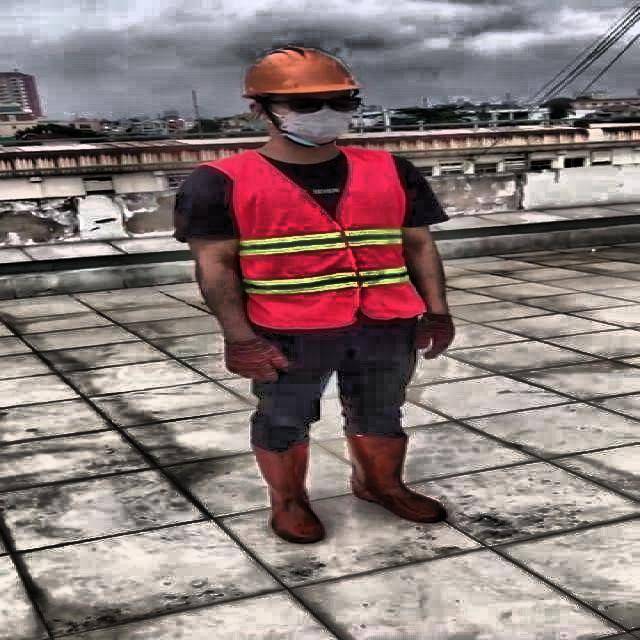safety_helmet: (232, 44, 358, 100)
safety_jacket: (233, 152, 421, 327)
